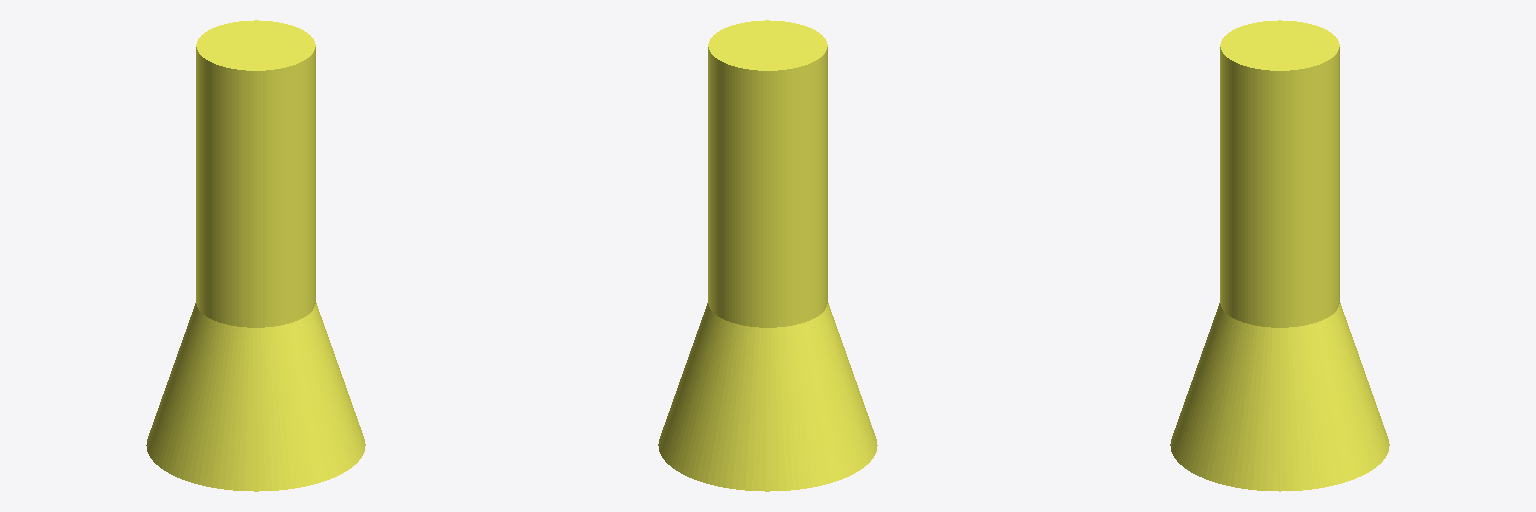
URDF robot description (a):
<?xml version="1.0" ?>
<robot name="a" >
  <link name="link_a">
    <contact>
      <friction_anchor/>
      <spinning_friction value="0.001"/>
      <rolling_friction value="0.001"/>
      <lateral_friction value="1.0"/>
    </contact>
    <inertial>
      <origin rpy="0 0 0" xyz="0.0 0.0 0.1"/>
       <mass value=".1"/>
       <inertia ixx="0" ixy="0" ixz="0" iyy="0" iyz="0" izz="0"/>
    </inertial>
    <visual>
      <geometry>
        <mesh filename="a.obj" scale="4 4 10"/>
      </geometry>
       <material name="yellow">
        <color rgba="1 1 0.4 1"/>
      </material>
    </visual>
    <collision>
      <geometry>
        <mesh filename="a.obj" scale="4 4 10"/>
      </geometry>
    </collision>
  </link>
</robot>

--- Facts derived from the render (not from the file) ---
Views: 3 orthographic renders of the robot side by side, from view 1: azimuth 30°, elevation 25°; view 2: azimuth 150°, elevation 25°; view 3: azimuth 270°, elevation 25°.
Robot: a — 1 links, 0 joints (none); root link link_a; default pose: every joint at zero.
Links seen in each view (by area): view 1: link_a; view 2: link_a; view 3: link_a.
Boxes of the visible links, x1,y1,x2,y2 form: link_a: (146,20,365,491); link_a: (658,20,877,491); link_a: (1170,20,1389,491).
Bounding box of the posed robot: 0.084 × 0.084 × 0.169 m (x, y, z).
Meshes: 1 distinct files referenced, 1 mesh visuals loaded (1 OBJ).